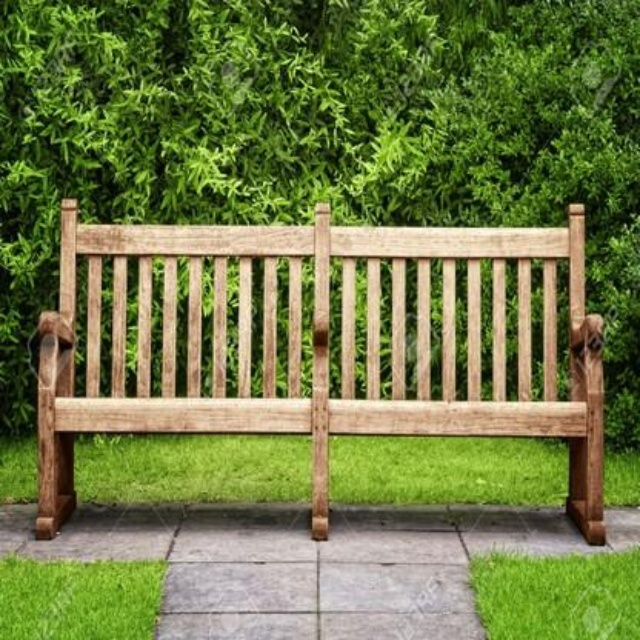obstacle: (12, 177, 620, 562)
